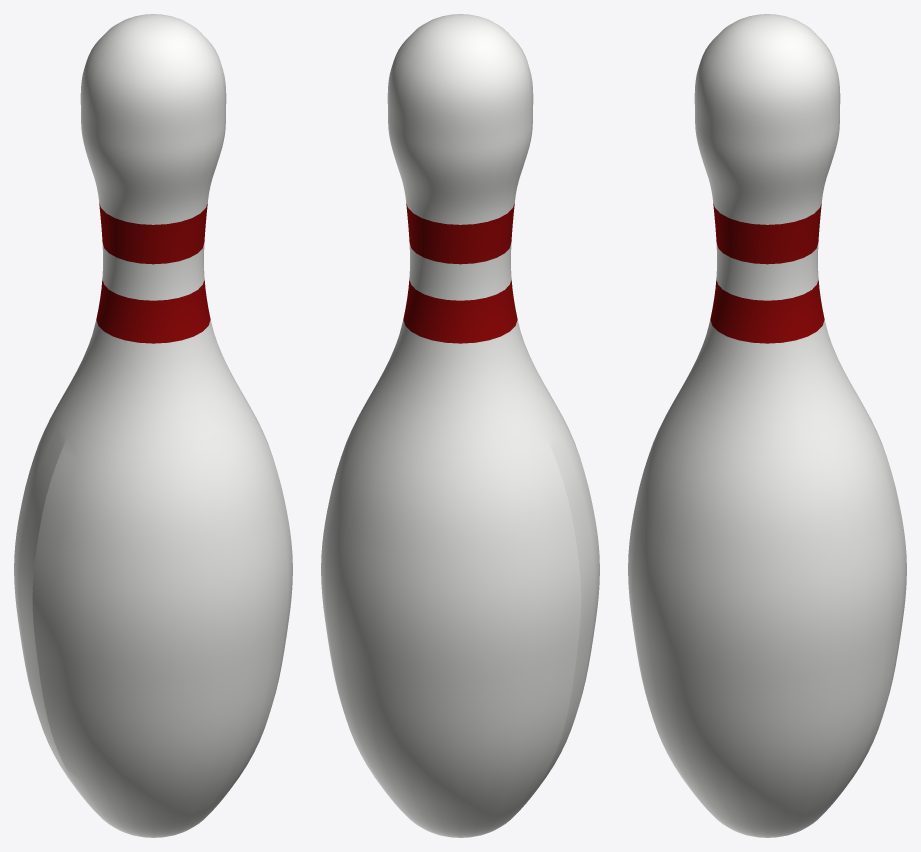
The model's file is pine.obj.
3 renders of one model, left to right at view 1: azimuth 30°, elevation 25°; view 2: azimuth 150°, elevation 25°; view 3: azimuth 270°, elevation 25°, orthographic.
Visible parts, largest first — view 1: Bowling_Pin.018; view 2: Bowling_Pin.018; view 3: Bowling_Pin.018.
Boxes of the visible parts, bbox=[...] form: Bowling_Pin.018: bbox=[14, 14, 292, 837]; Bowling_Pin.018: bbox=[321, 14, 599, 837]; Bowling_Pin.018: bbox=[628, 14, 906, 837].
Size of the model in its own units: 0.0872 by 0.2785 by 0.0872.
